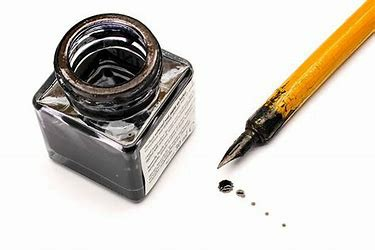pen: (215, 3, 375, 169)
